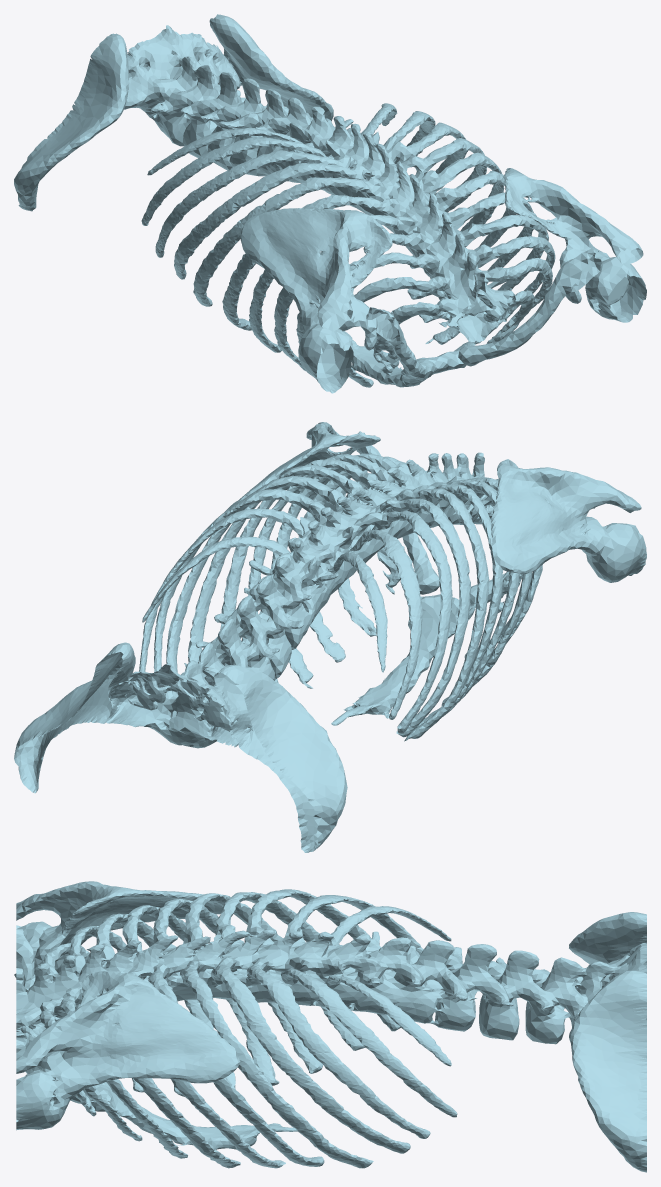
The model's file is bone.obj.
The picture shows the model from 3 angles, top to bottom: view 1: azimuth 30°, elevation 25°; view 2: azimuth 150°, elevation 25°; view 3: azimuth 270°, elevation 25°; orthographic projection.
Parts seen in each view (by area): view 1: grp1; view 2: grp1; view 3: grp1.
Part boxes in pixels (x1,y1,x2,y2): grp1: [14, 14, 646, 393]; grp1: [14, 422, 646, 852]; grp1: [14, 881, 646, 1172].
Size of the model in its own units: 302 by 189 by 490.
